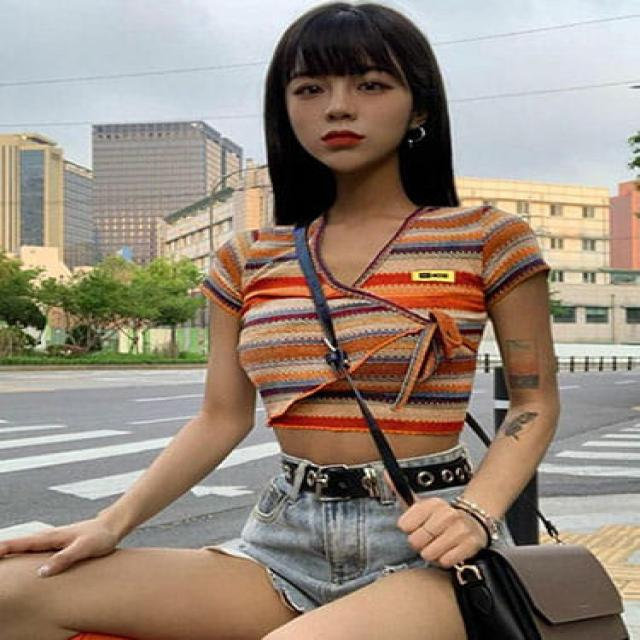clothes: (176, 194, 571, 632)
